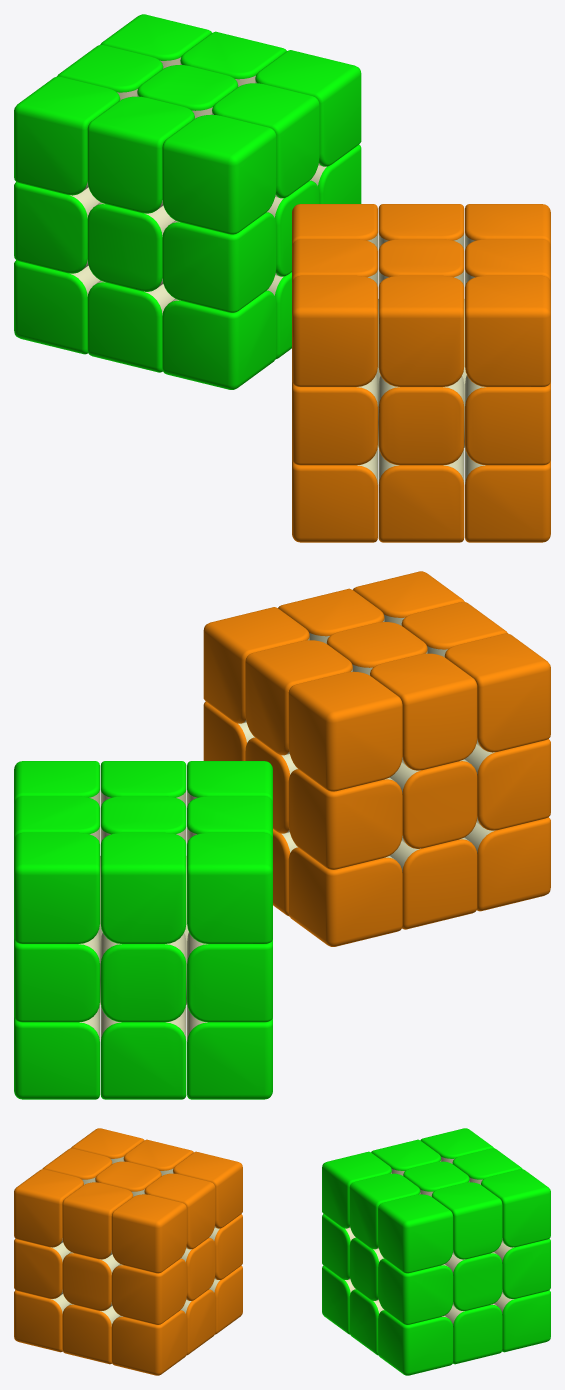
File: mgc.glb
3 views of the same model, one above another, from view 1: azimuth 30°, elevation 25°; view 2: azimuth 150°, elevation 25°; view 3: azimuth 270°, elevation 25° (orthographic). The views are drawn at different scales.
Parts seen in each view (by area): view 1: PieceG.006, PieceO.003, PieceO.012, PieceO.002, PieceG.023, PieceG.020, PieceG.005, PieceG.003, PieceO.015, PieceO.001, PieceO.022, PieceO.016 (+21 smaller); view 2: PieceO.009, PieceG.012, PieceG.003, PieceG.002, PieceO.024, PieceO.018, PieceO.011, PieceO.012, PieceG.015, PieceG.001, PieceG.016, PieceG.022 (+21 smaller); view 3: PieceG.009, PieceO.006, PieceG.024, PieceO.023, PieceG.018, PieceO.020, PieceG.011, PieceO.005, PieceG.012, PieceO.003, PieceG.008, PieceO.008 (+26 smaller).
Part boxes in pixels (x1,y1,x2,y2): PieceG.006: (162,114,276,234); PieceO.003: (465,275,550,386); PieceO.012: (292,275,377,386); PieceO.002: (378,275,464,386); PieceG.023: (162,212,276,312); PieceG.020: (162,290,276,389); PieceG.005: (87,96,194,213); PieceG.003: (14,76,120,195); PieceO.015: (378,452,464,542); PieceO.001: (378,375,464,465); PieceO.022: (465,452,550,542); PieceO.016: (292,453,377,542); PieceO.009: (288,671,402,791); PieceG.012: (14,832,99,943); PieceG.003: (187,832,272,943); PieceG.002: (100,832,186,943); PieceO.024: (288,769,402,869); PieceO.018: (288,847,402,946); PieceO.011: (370,653,477,770); PieceO.012: (444,633,550,752); PieceG.015: (100,1009,186,1099); PieceG.001: (100,932,186,1022); PieceG.016: (14,1009,99,1099); PieceG.022: (187,1010,272,1099); PieceG.009: (378,1194,453,1273); PieceO.006: (111,1194,186,1273); PieceG.024: (378,1258,453,1324); PieceO.023: (111,1258,186,1324); PieceG.018: (378,1310,453,1375); PieceO.020: (111,1310,186,1375); PieceG.011: (431,1182,502,1259); PieceO.005: (62,1182,133,1259); PieceG.012: (481,1169,550,1247); PieceO.003: (14,1169,83,1247); PieceG.008: (349,1173,420,1249); PieceO.008: (144,1173,215,1249).
Size of the model in its own units: 4.02 by 3 by 9.44.
